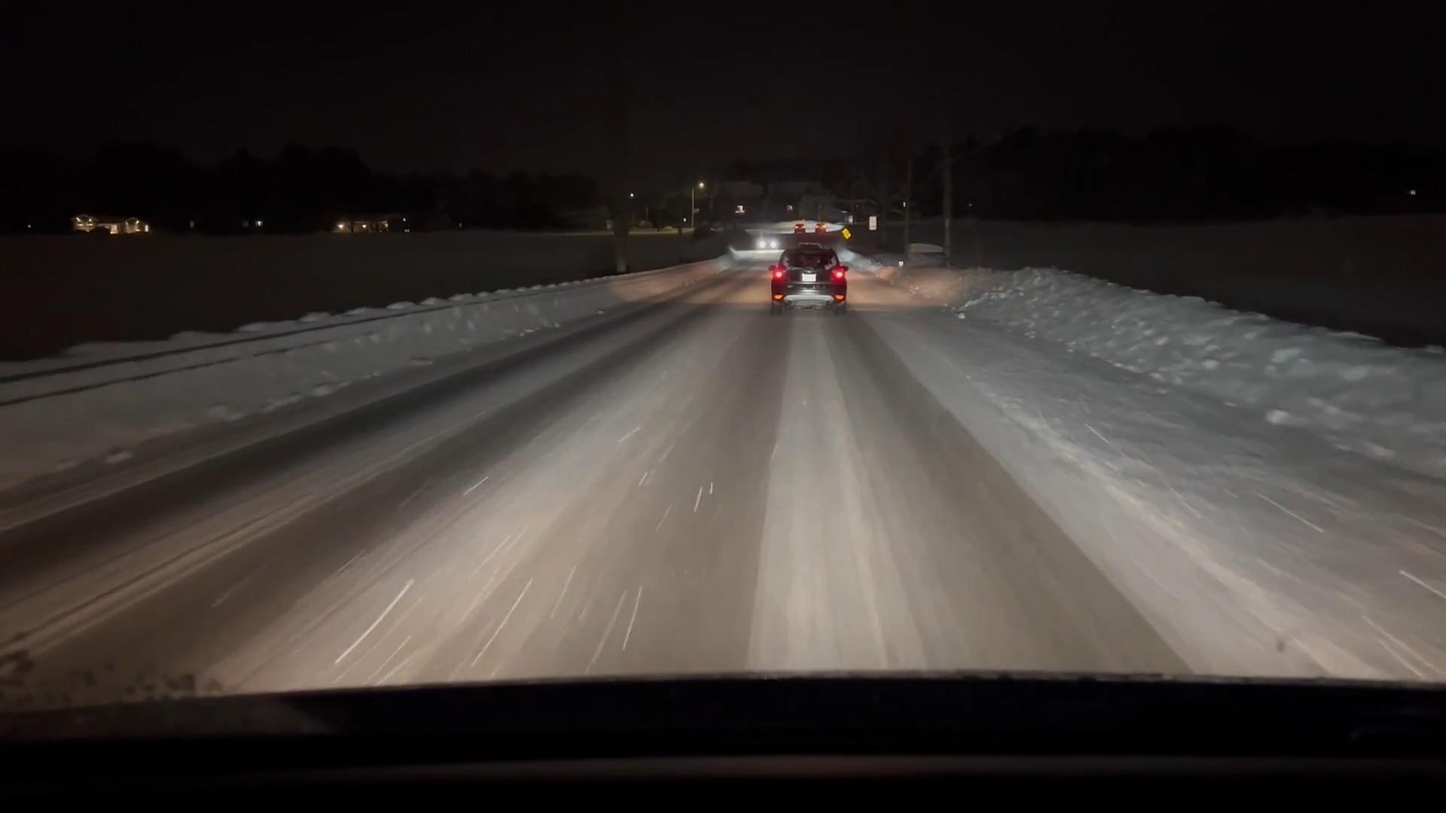Snow: (0, 224, 1446, 700)
